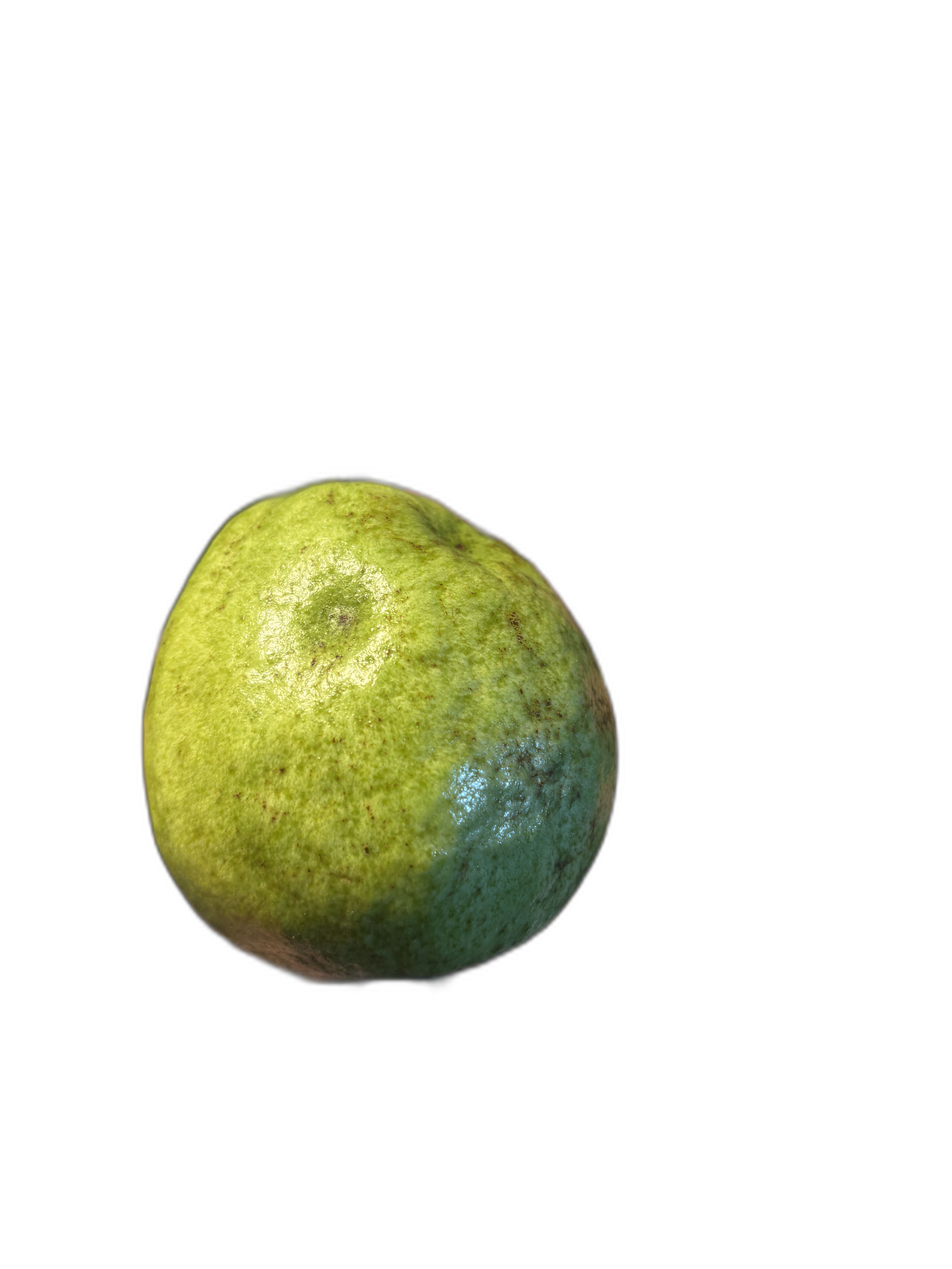guava: (117, 191, 752, 990)
